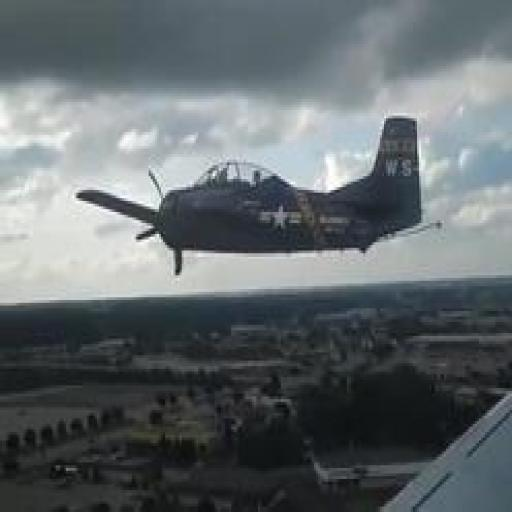aircraft: (74, 115, 424, 278)
